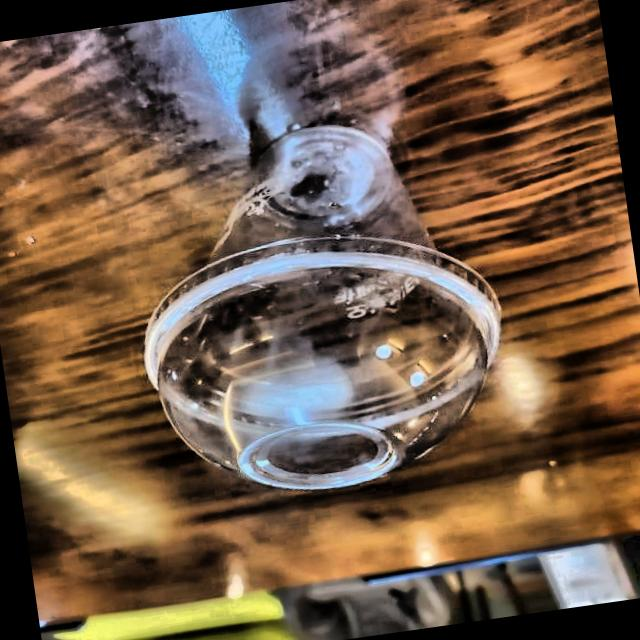plastic cup: (97, 57, 534, 530)
